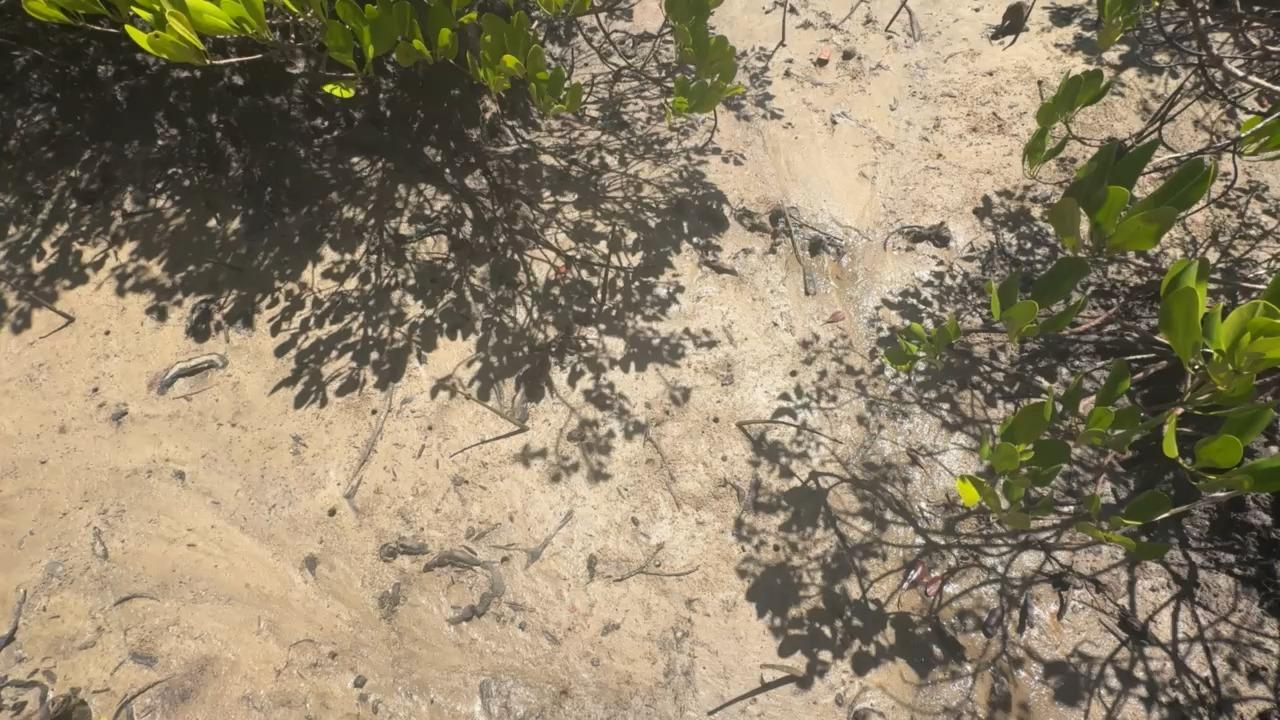Tree: (0, 270, 76, 324), (447, 385, 530, 432), (736, 419, 845, 445), (1009, 0, 1037, 46), (760, 663, 811, 687), (602, 223, 614, 305), (883, 0, 907, 31), (781, 0, 789, 41), (714, 107, 718, 125)
